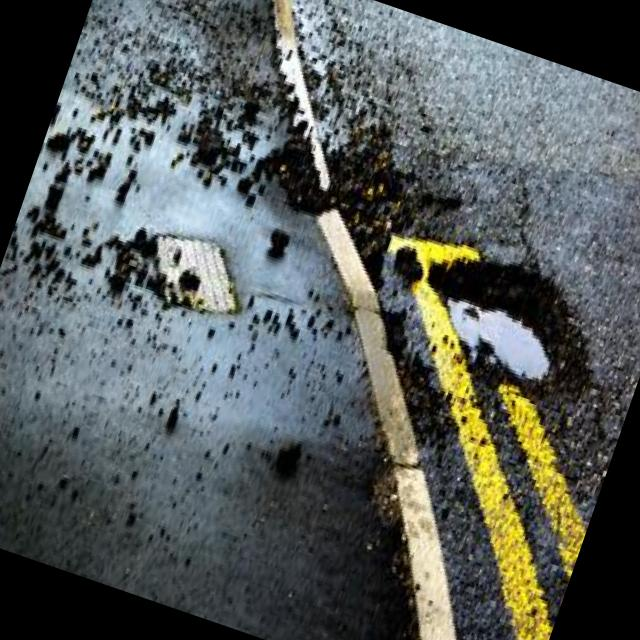Potholes: (373, 214, 640, 463), (267, 88, 477, 334)
